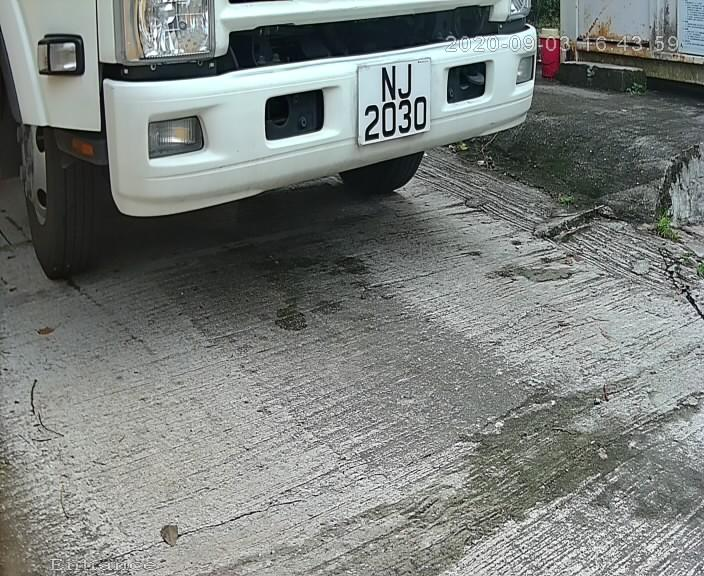License Plate: (327, 44, 450, 160)
